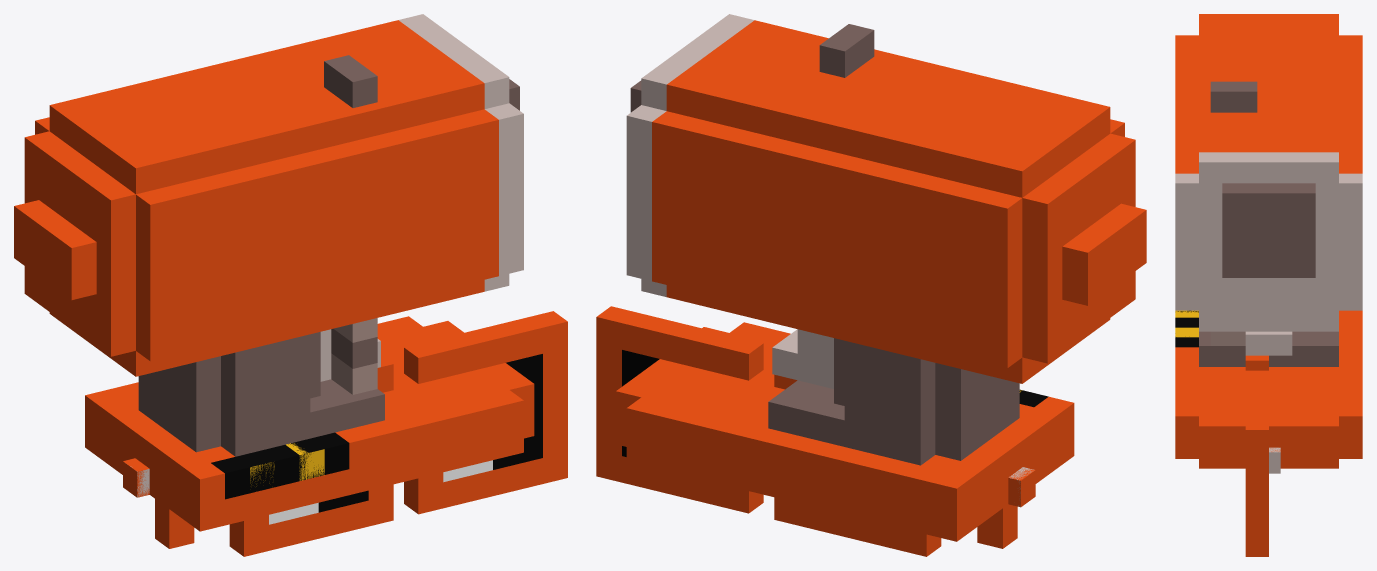
Rendered from drill.glb.
The picture shows the model from 3 angles, left to right: view 1: azimuth 30°, elevation 25°; view 2: azimuth 150°, elevation 25°; view 3: azimuth 270°, elevation 25°; orthographic projection. The views are drawn at different scales.
Visible parts, largest first — view 1: base, glasses, r1 (2), mouth, layer-2, teeth, a1; view 2: base, glasses, r1 (2), a1, layer-2; view 3: base, glasses, r1 (2), mouth, teeth, a1.
Part boxes in pixels (<box>): base: <box>14,14,534,531</box>; glasses: <box>155,311,567,556</box>; r1 (2): <box>324,55,377,394</box>; mouth: <box>211,432,349,499</box>; layer-2: <box>269,354,542,524</box>; teeth: <box>250,443,324,486</box>; a1: <box>123,458,149,497</box>; base: <box>616,14,1146,541</box>; glasses: <box>596,306,1017,556</box>; r1 (2): <box>819,24,874,77</box>; a1: <box>1008,468,1035,507</box>; layer-2: <box>622,350,659,456</box>; base: <box>1175,14,1362,468</box>; glasses: <box>1245,355,1268,556</box>; r1 (2): <box>1210,81,1257,366</box>; mouth: <box>1175,310,1198,347</box>; teeth: <box>1175,310,1198,337</box>; a1: <box>1269,447,1280,473</box>.
Bounding box in the file's own units: 20.5 × 18 × 8.
15 materials, 15 textured.
